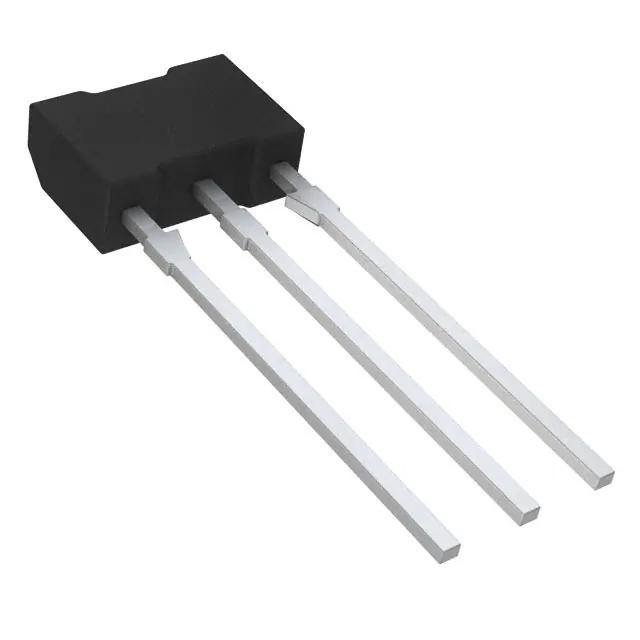Transistor: (24, 55, 594, 548)
